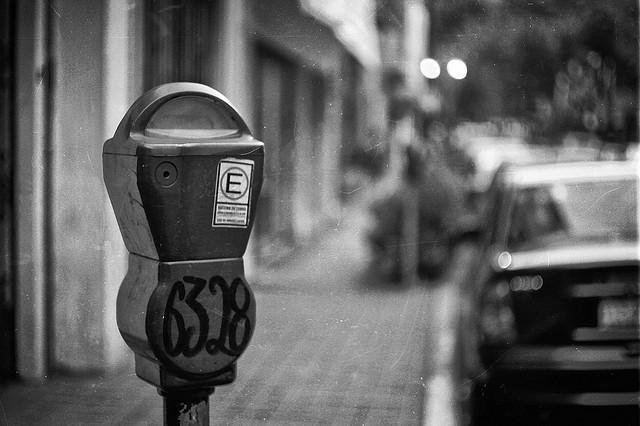car: (455, 160, 640, 413), (458, 134, 563, 227)
